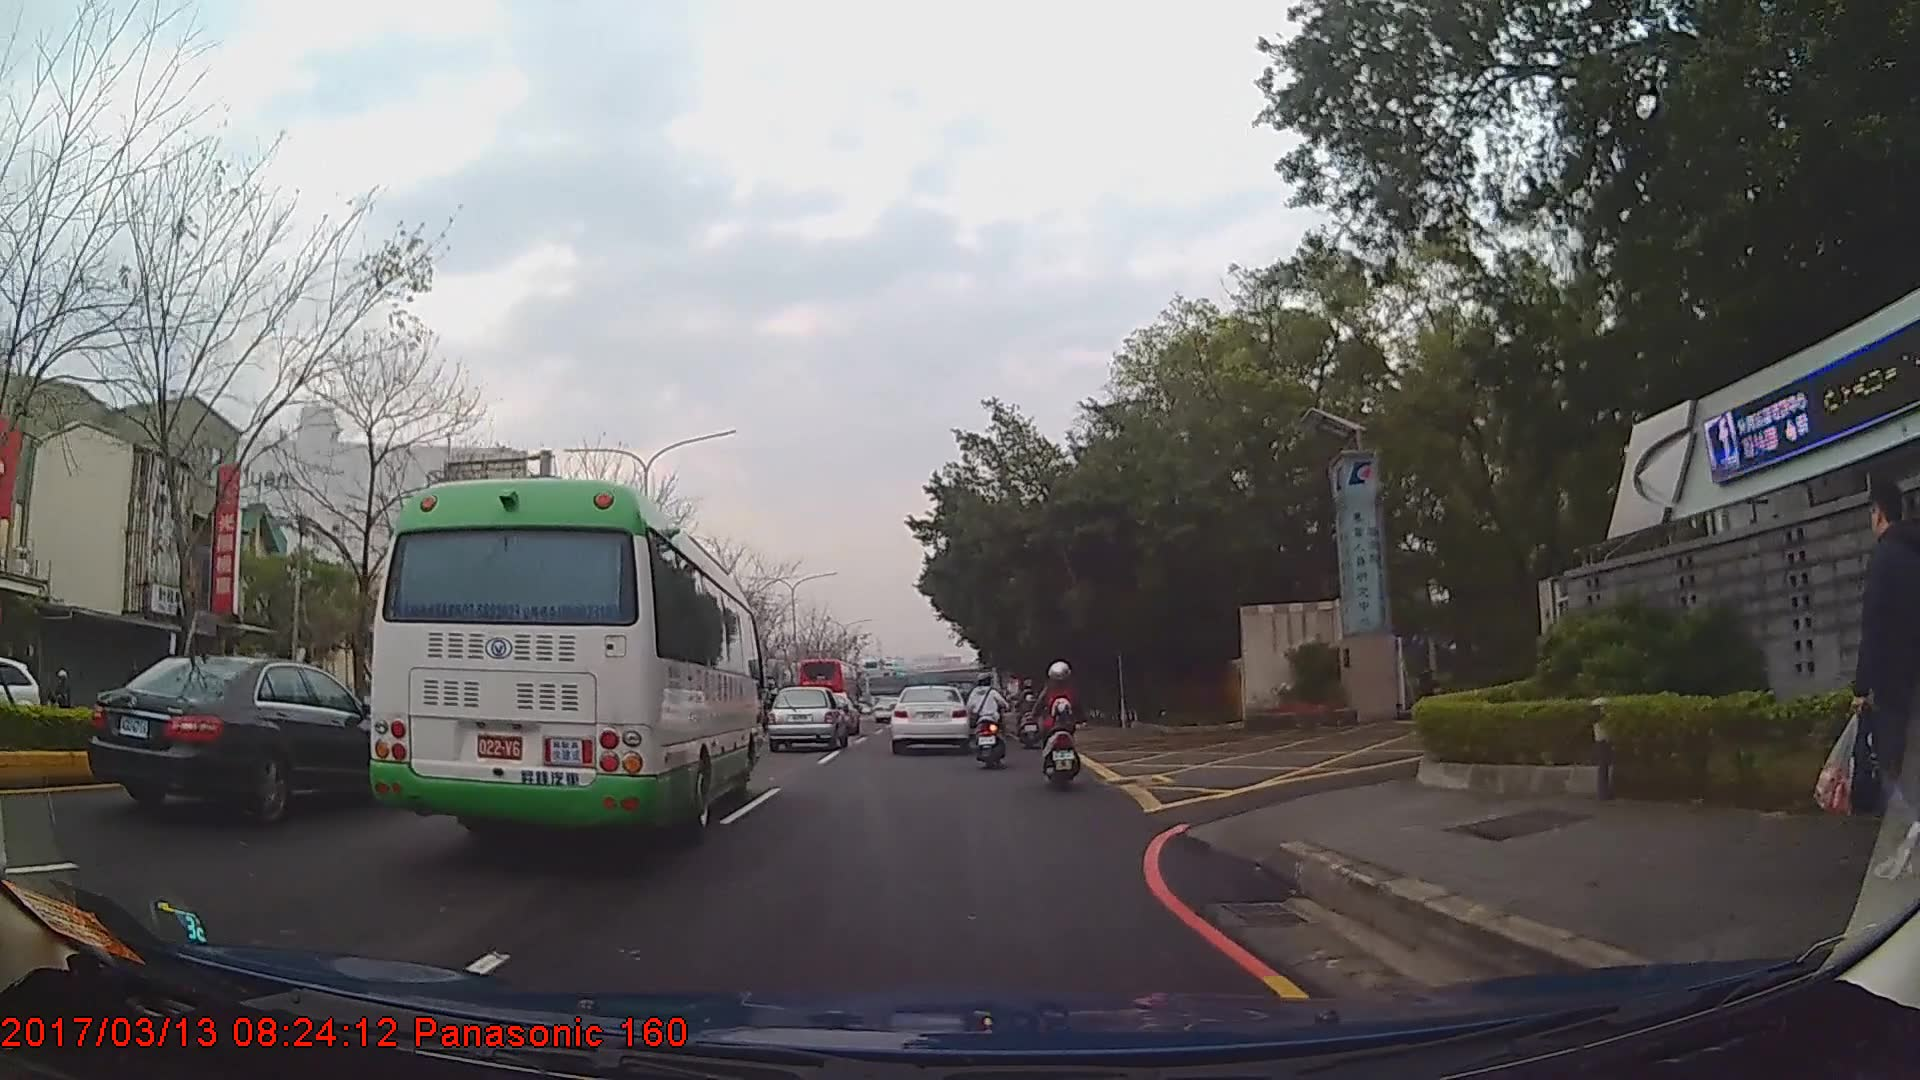pedestrian: (1811, 480, 1920, 883)
rider: (1040, 664, 1083, 799), (964, 677, 1007, 772), (1016, 678, 1044, 751)
vehicle: (357, 477, 761, 852), (85, 655, 422, 828), (889, 683, 970, 755), (768, 687, 849, 755), (0, 653, 43, 759), (795, 657, 858, 721)
